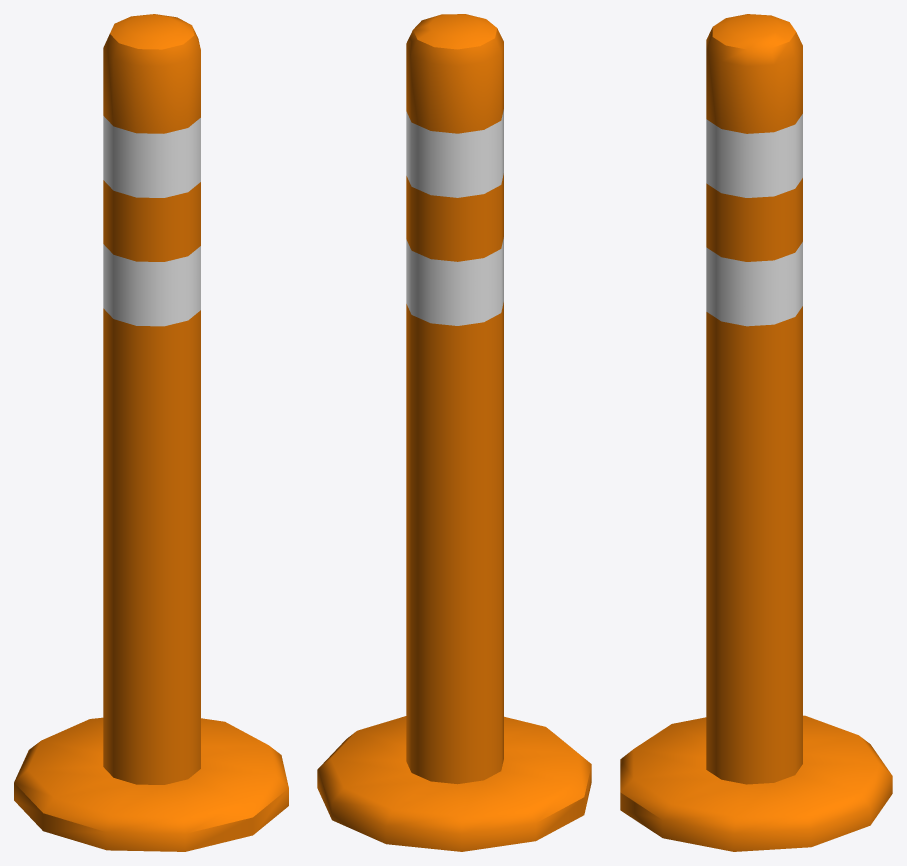
File: Traffic Sign_2.fbx
3 views of the same model, side by side, from view 1: azimuth 30°, elevation 25°; view 2: azimuth 150°, elevation 25°; view 3: azimuth 270°, elevation 25° (orthographic).
Parts seen in each view (by area): view 1: Traffic Sign_2; view 2: Traffic Sign_2; view 3: Traffic Sign_2.
Boxes of the visible parts, x1=… form: Traffic Sign_2: x1=14, y1=14, x2=288, y2=851; Traffic Sign_2: x1=317, y1=14, x2=591, y2=851; Traffic Sign_2: x1=620, y1=14, x2=892, y2=851.
Bounding box in the file's own units: 0.1774 × 0.5467 × 0.1756.
